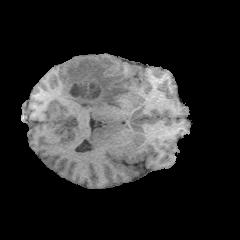glioma: (61, 56, 129, 109)
